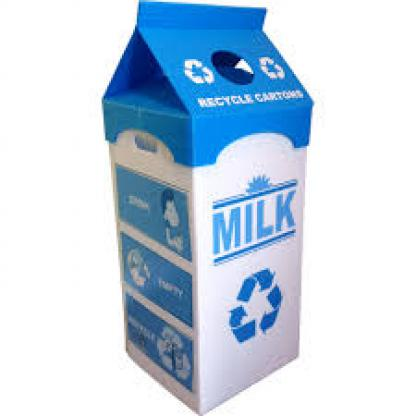CARDBOARD: (101, 0, 311, 413)
